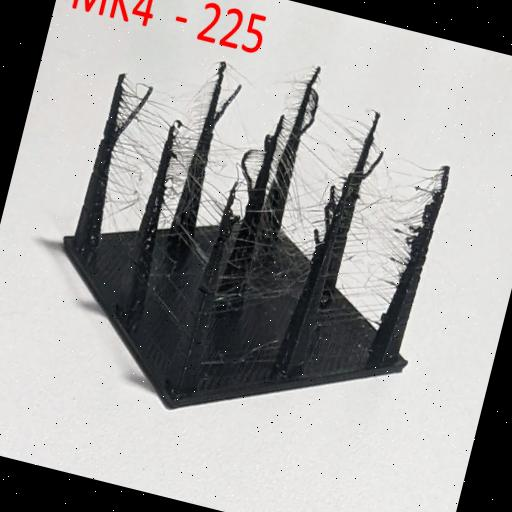stringing: (340, 132, 441, 332), (283, 102, 371, 259), (157, 67, 218, 234), (102, 74, 167, 229), (262, 67, 313, 200), (196, 139, 265, 228), (212, 64, 241, 136), (301, 79, 318, 142)
